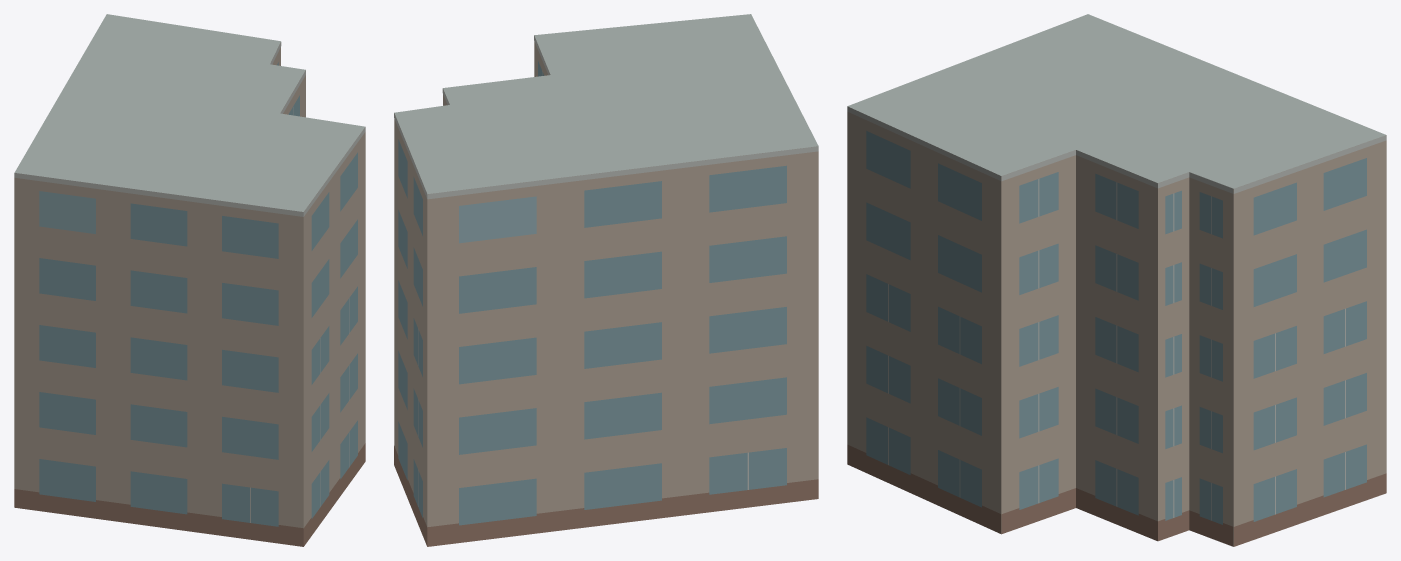
The model's file is survey-upis-32504130.glb.
The picture shows the model from 3 angles, left to right: view 1: azimuth 30°, elevation 25°; view 2: azimuth 150°, elevation 25°; view 3: azimuth 270°, elevation 25°; orthographic projection. The views are drawn at different scales.
Parts seen in each view (by area): view 1: survey-upis-32504130.tmp; view 2: survey-upis-32504130.tmp; view 3: survey-upis-32504130.tmp.
Part boxes in pixels (bbox=[...]): survey-upis-32504130.tmp: bbox=[14, 14, 365, 546]; survey-upis-32504130.tmp: bbox=[394, 14, 818, 546]; survey-upis-32504130.tmp: bbox=[847, 14, 1386, 546].
Size of the model in its own units: 17.33 by 16.55 by 22.59.
